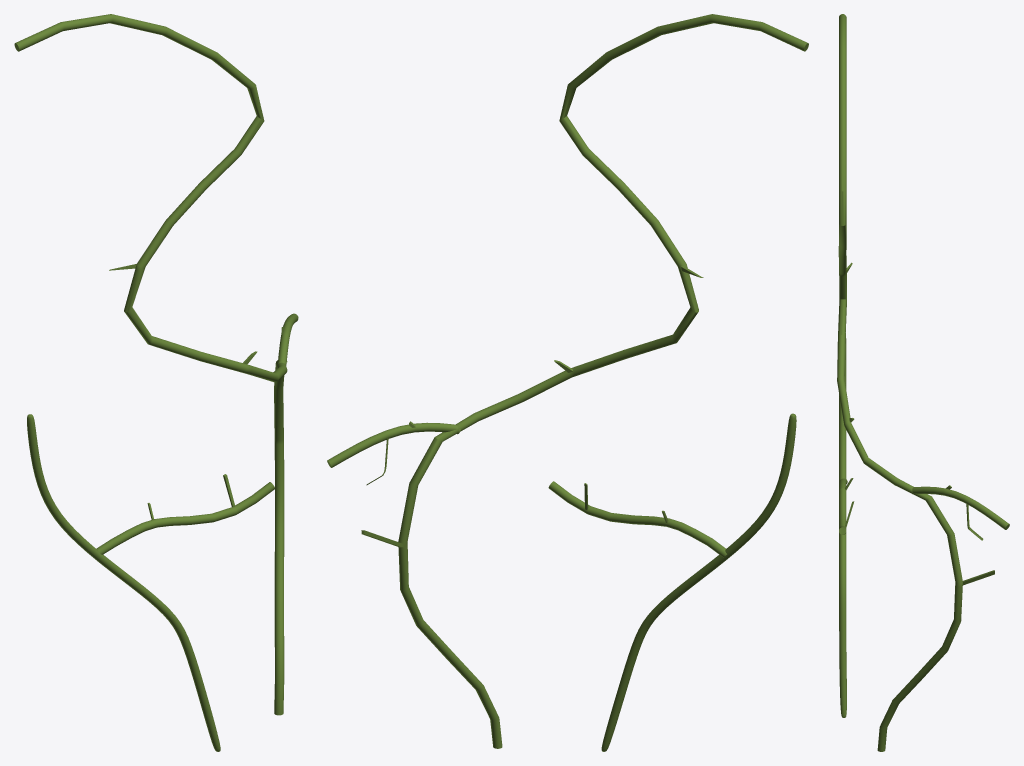
The model's file is Vines.fbx.
The picture shows the model from 3 angles, left to right: view 1: azimuth 30°, elevation 25°; view 2: azimuth 150°, elevation 25°; view 3: azimuth 270°, elevation 25°; orthographic projection. The views are drawn at different scales.
Parts seen in each view (by area): view 1: pCylinder8, pCylinder9, pCylinder10, pCylinder11; view 2: pCylinder8, pCylinder9, pCylinder10, pCylinder11; view 3: pCylinder8, pCylinder9, pCylinder11, pCylinder10.
Boxes of the visible parts, x1=… form: pCylinder8: x1=14, y1=14, x2=287, y2=715; pCylinder9: x1=27, y1=414, x2=220, y2=751; pCylinder10: x1=96, y1=474, x2=275, y2=554; pCylinder11: x1=276, y1=313, x2=298, y2=368; pCylinder8: x1=361, y1=14, x2=808, y2=748; pCylinder9: x1=601, y1=413, x2=796, y2=751; pCylinder10: x1=548, y1=481, x2=726, y2=557; pCylinder11: x1=327, y1=421, x2=460, y2=485; pCylinder8: x1=837, y1=14, x2=994, y2=751; pCylinder9: x1=839, y1=332, x2=846, y2=717; pCylinder11: x1=912, y1=485, x2=1009, y2=540; pCylinder10: x1=839, y1=478, x2=854, y2=534.
Bounding box in the file's own units: 13 × 24.99 × 6.21.
